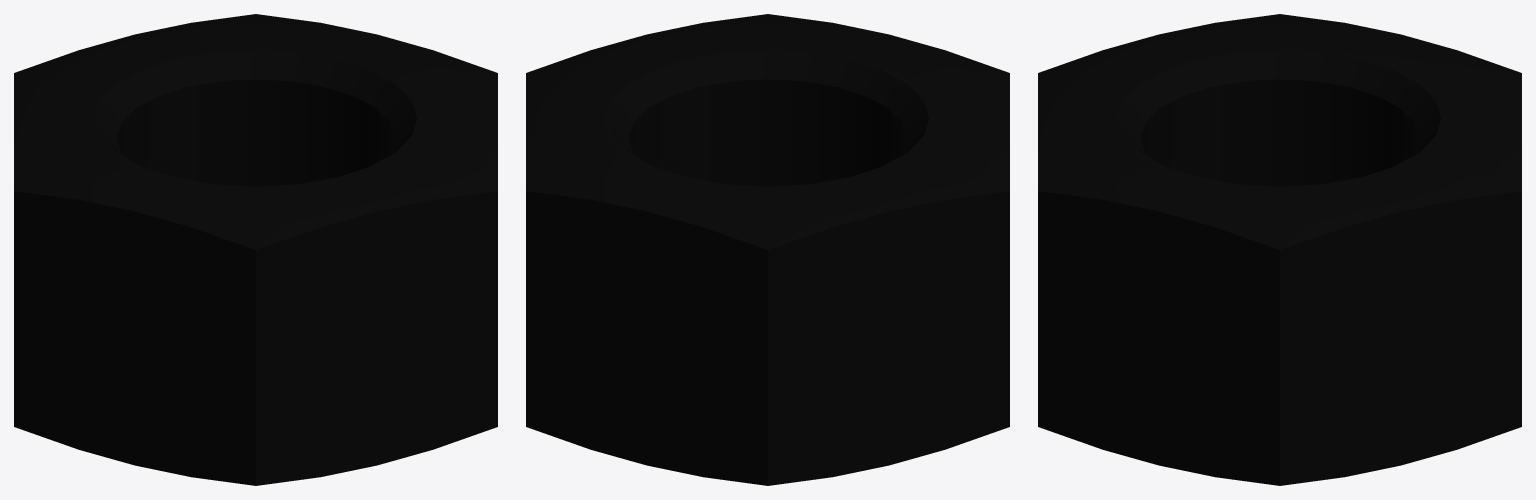
3 renders of one model, left to right at view 1: azimuth 30°, elevation 25°; view 2: azimuth 150°, elevation 25°; view 3: azimuth 270°, elevation 25°, orthographic.
Visible parts, largest first — view 1: M20; view 2: M20; view 3: M20.
Part boxes in pixels (x1=…): M20: x1=14, y1=14, x2=497, y2=485; M20: x1=526, y1=14, x2=1009, y2=485; M20: x1=1038, y1=14, x2=1521, y2=485.
Bounding box in the file's own units: 69.28 × 36 × 60.
1 material, 1 textured.
